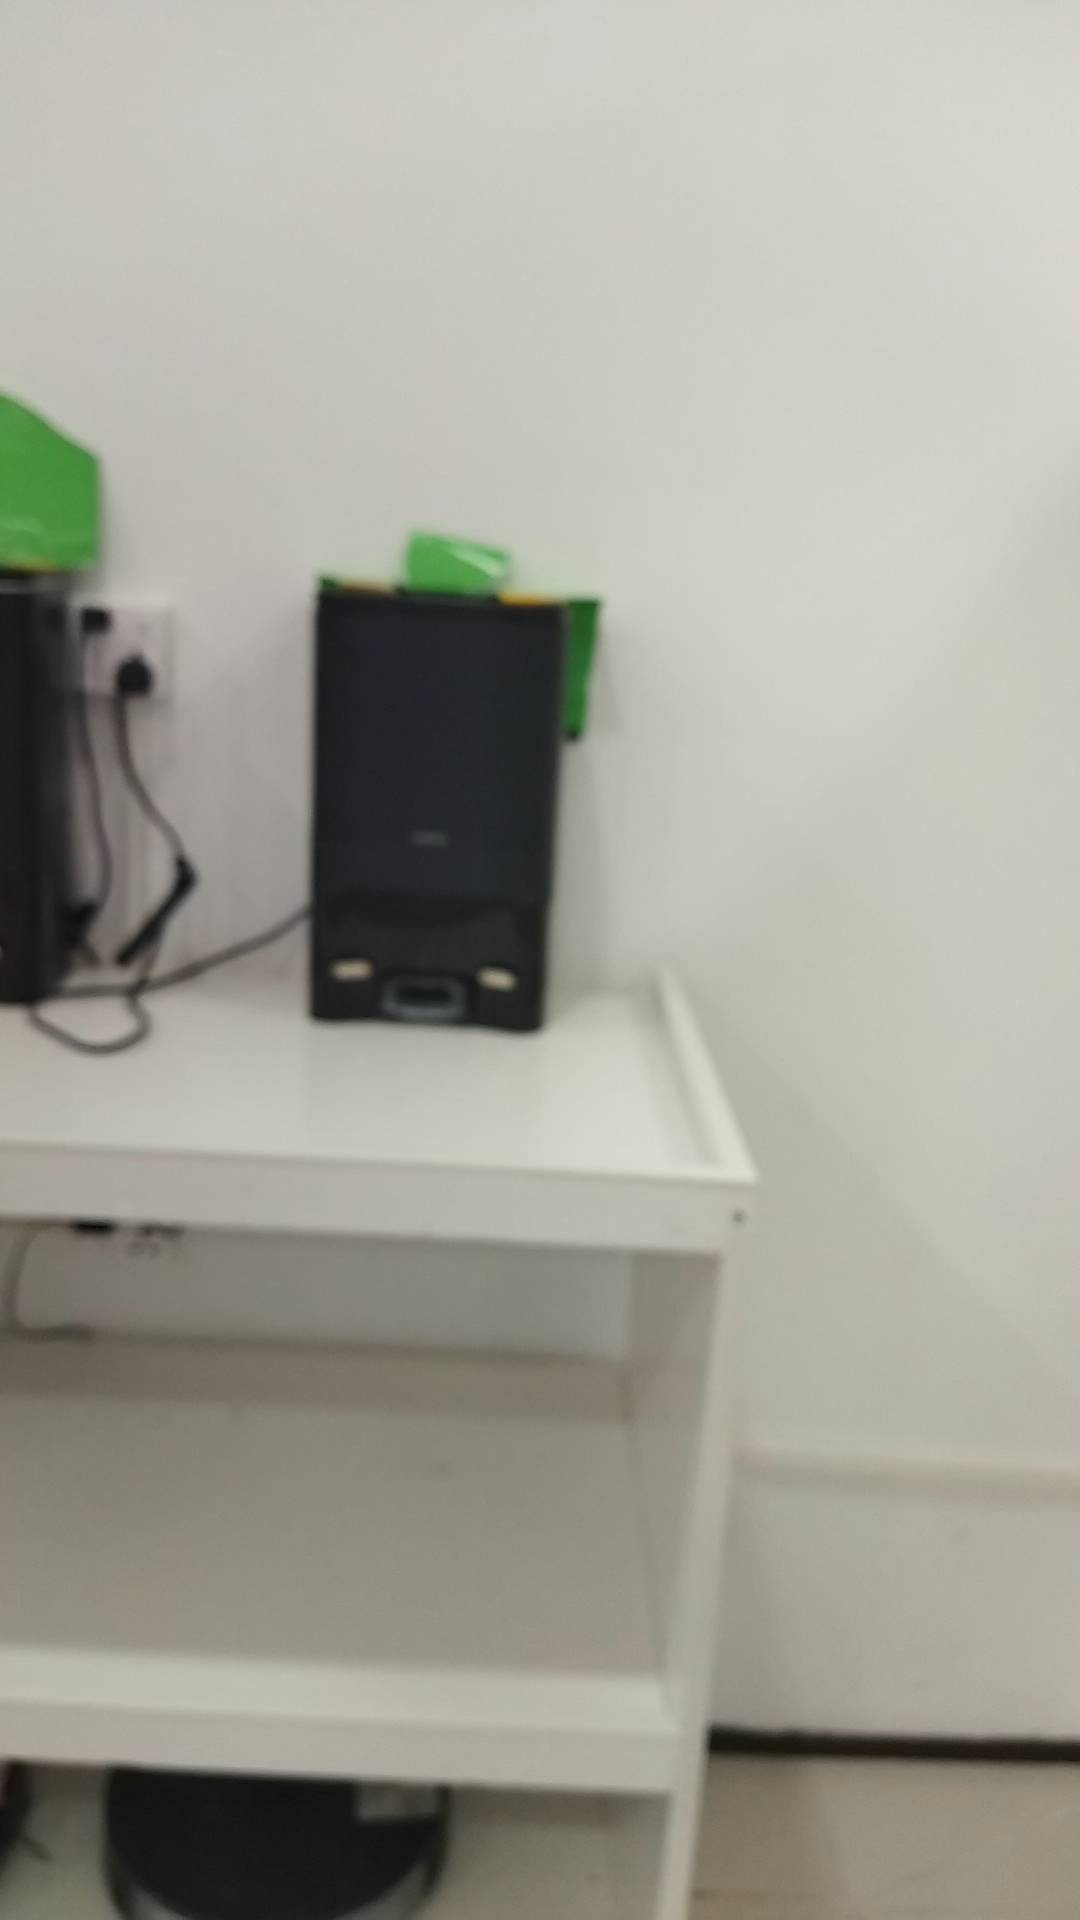dust collecting barrel: (309, 579, 564, 1038)
